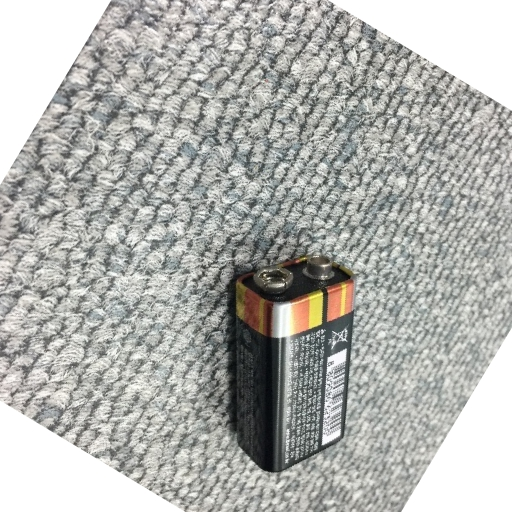Battery_3: (215, 245, 372, 478)
